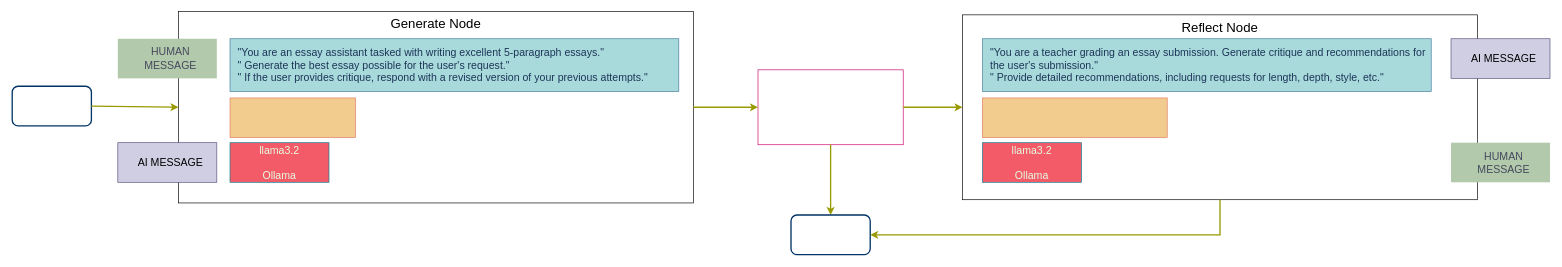
Some shapes in this 1562 by 267 pixel diagram are drawn without their labels. The centre of each missing label's shape, as x and y in pixels:
"[ prompt | llm ] .ainvoke" belongs at point (292, 117).
"[ reflection_prompt | llm ] .ainvoke" belongs at point (1074, 117).
"END" belongs at point (830, 234).
"Should Continue Edge" belongs at point (830, 107).
"START" belongs at point (51, 105).
